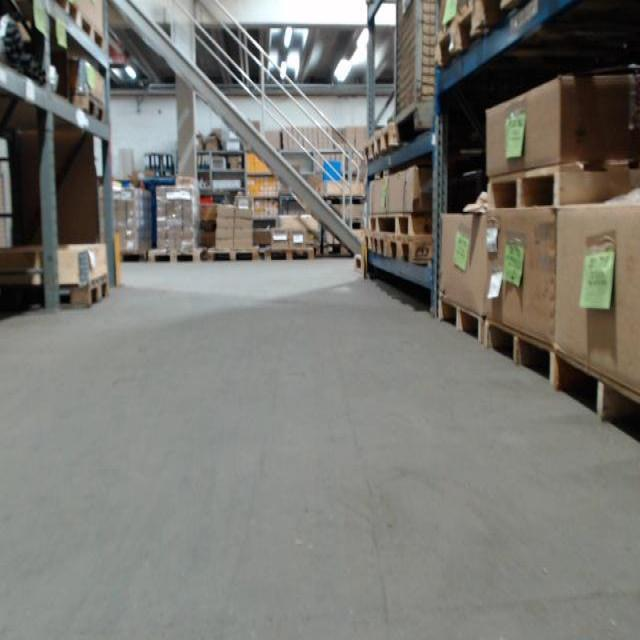pallet: (484, 155, 640, 213), (550, 350, 640, 444), (482, 319, 557, 386), (435, 0, 501, 67), (435, 298, 485, 344), (60, 273, 108, 310), (389, 231, 432, 268), (77, 12, 106, 50), (148, 246, 207, 263), (375, 122, 400, 158), (262, 246, 315, 262), (207, 249, 261, 262), (83, 95, 106, 125), (375, 227, 388, 256), (363, 139, 377, 164)
stillage: (392, 2, 444, 138)
